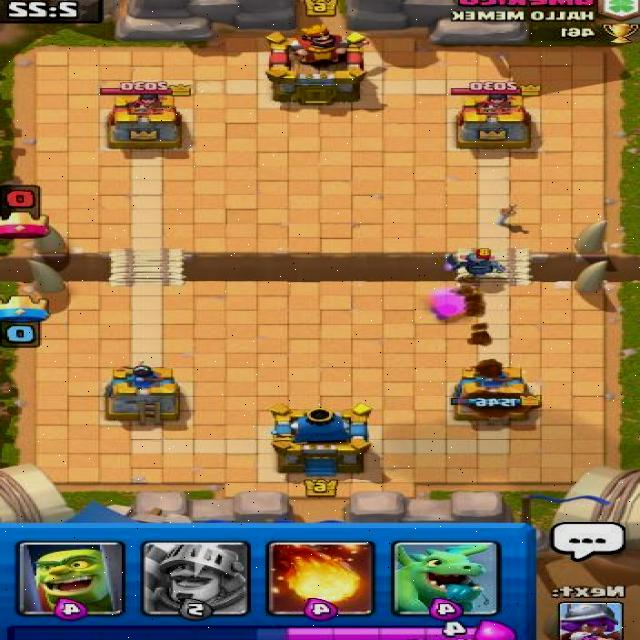Enemy-MiniPEKKA: (440, 247, 509, 280)
